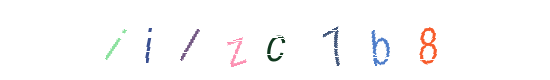7: (257, 0, 337, 80)
8: (388, 0, 468, 80)
B: (326, 0, 406, 80)
C: (244, 0, 324, 80)
I: (144, 0, 224, 80), (209, 0, 289, 80)
L: (234, 0, 314, 80)
Z: (234, 0, 314, 80)
